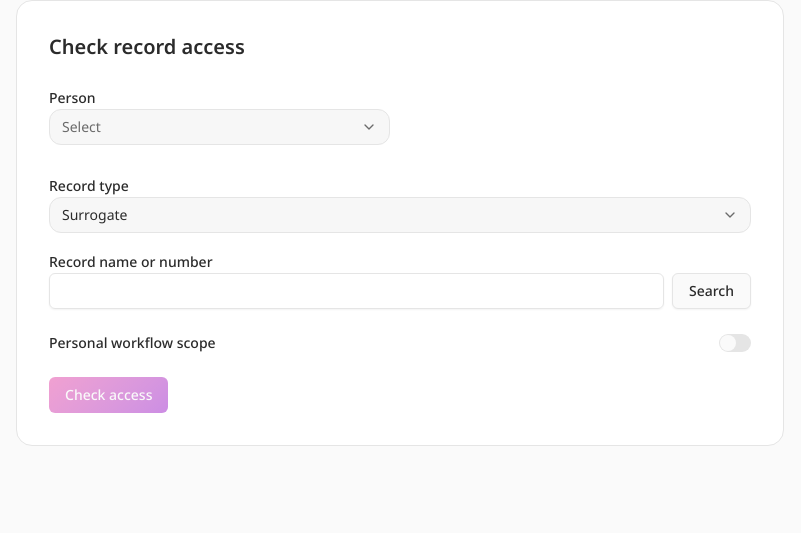
record access checker › renders a denied search response without exposing an old result
The image size is (801, 533).
Click the button "Search". click: {"x": 712, "y": 291}
box: [672, 273, 751, 309]
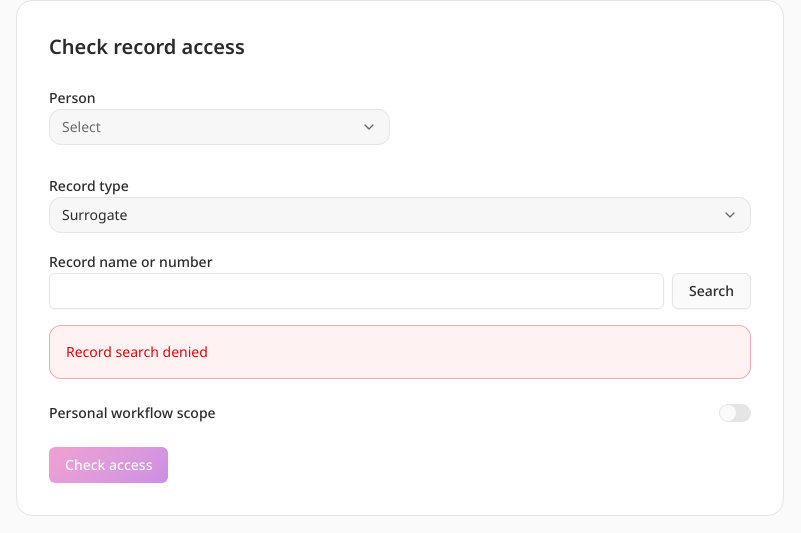
Check: the button "Check access" is disabled, box [49, 447, 168, 483]
Check: the message reads "Record search denied", box [66, 342, 208, 361]
